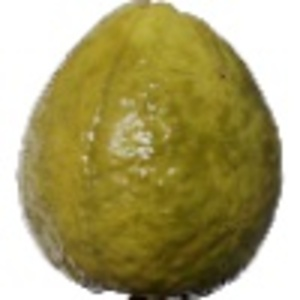goiaba: (8, 3, 291, 297)
